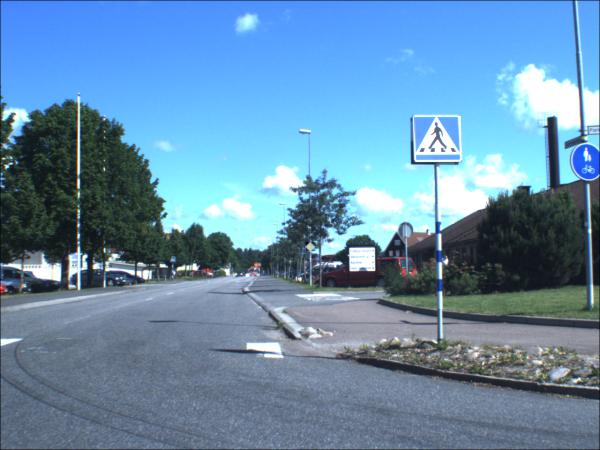PEDESTRIAN_CROSSING: (416, 117, 463, 164), (172, 258, 177, 264)
PRIORITY_ROAD: (307, 243, 318, 253)
